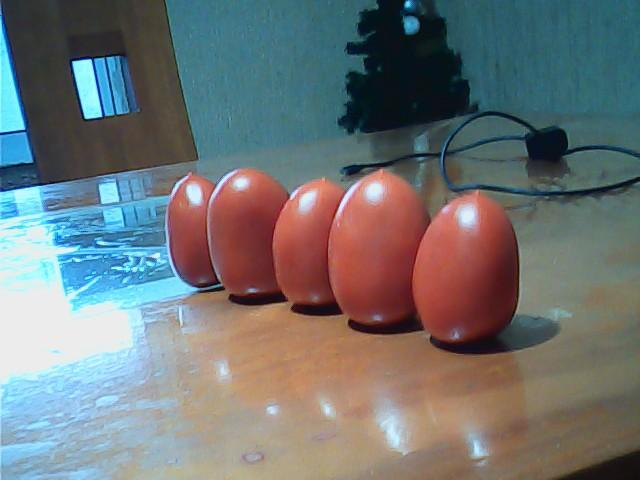maduro: (327, 167, 428, 331), (414, 188, 519, 343), (208, 167, 291, 300), (273, 177, 346, 306), (164, 172, 227, 287)
